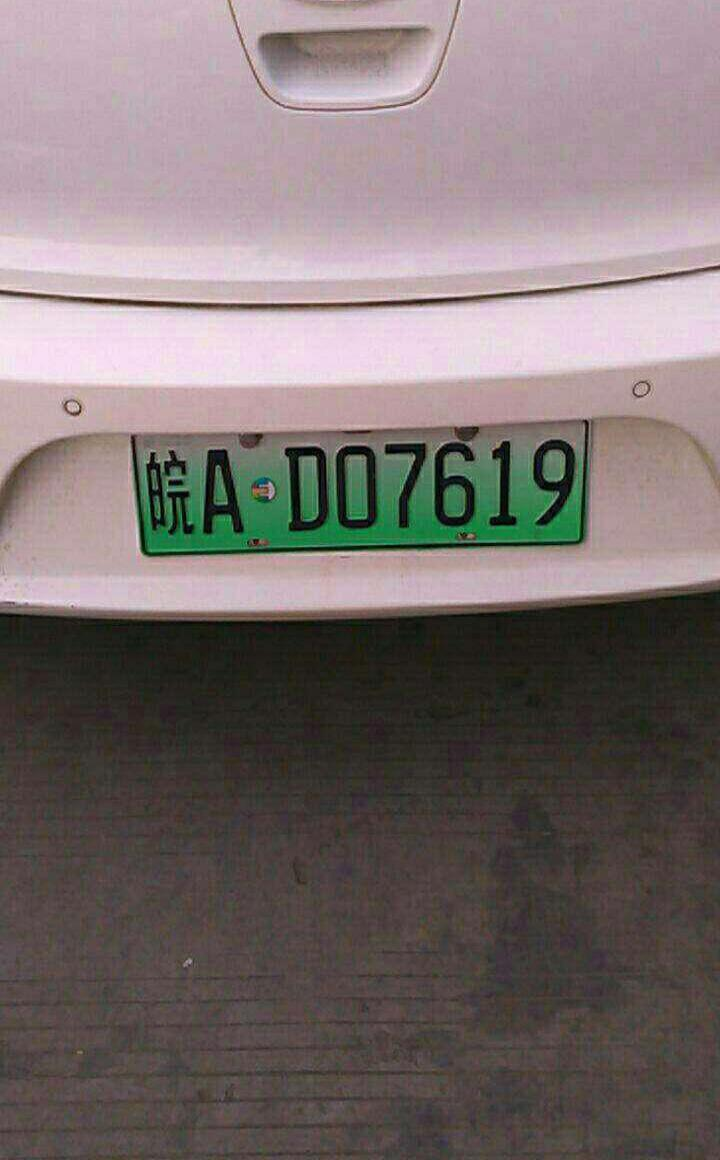car: (117, 428, 598, 551)
